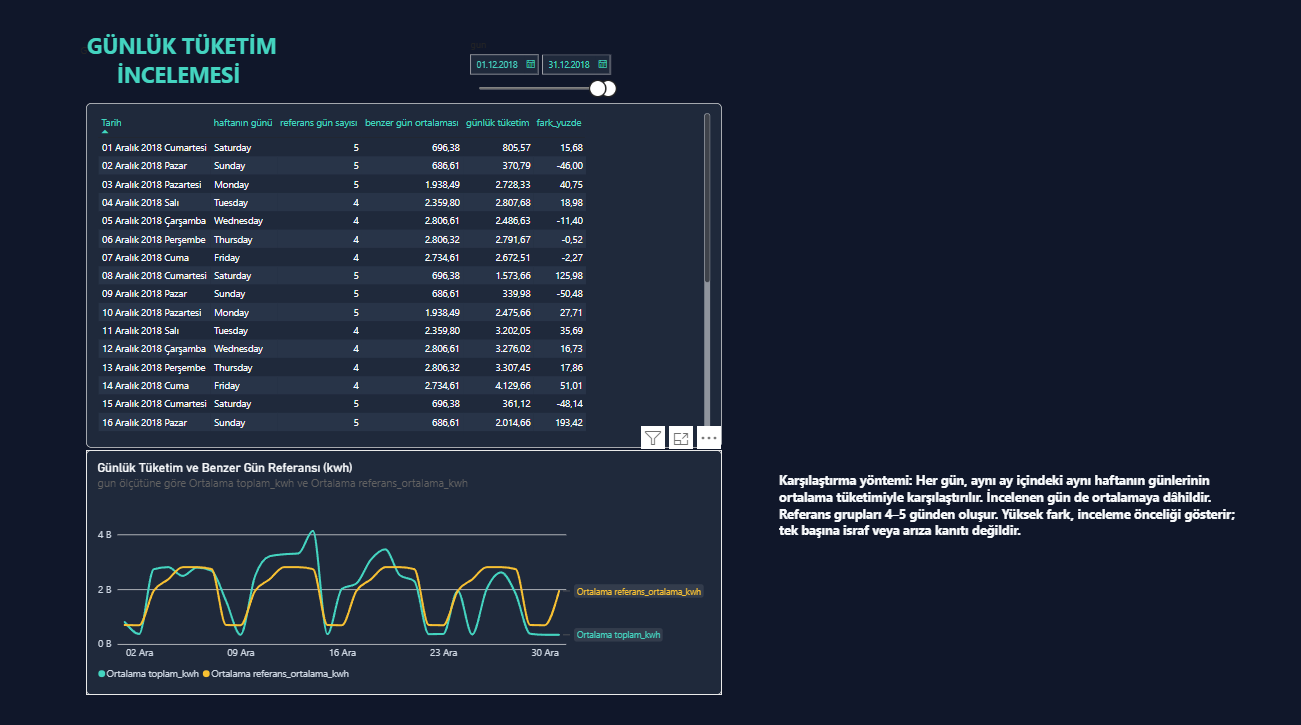

Layout of this report page (visuals, bound fields, positions):
{"tool":"powerbi","page":{"name":"Günlük İnceleme","canvas":[1920,1080],"ordinal":1},"visuals":[{"type":"tableEx","fields":{"Values":["public rapor_benzer_gun_karsilastirmasi.gun","public rapor_benzer_gun_karsilastirmasi.haftanin_gunu","public rapor_benzer_gun_karsilastirmasi.referans_gun_sayisi","public rapor_benzer_gun_karsilastirmasi.referans_ortalama_kwh","public rapor_benzer_gun_karsilastirmasi.toplam_kwh","public rapor_benzer_gun_karsilastirmasi.fark_yuzde"]},"box":[128.2,157.7,937.2,508.4],"z":1},{"type":"slicer","fields":{"Values":["public rapor_benzer_gun_karsilastirmasi.gun"]},"box":[686.7,63.4,226.9,151.8],"z":2},{"type":"textbox","box":[1150,699.9,676.3,300.6],"z":4},{"type":"lineChart","title":"Günlük Tüketim ve Benzer Gün Referansı (kwh)","fields":{"Category":["public rapor_benzer_gun_karsilastirmasi.gun"],"Y":["Avg(public rapor_benzer_gun_karsilastirmasi.toplam_kwh)","Avg(public rapor_benzer_gun_karsilastirmasi.referans_ortalama_kwh)"]},"box":[128.2,669,937.2,361],"z":5},{"type":"textbox","box":[100,50,328.6,150.3],"z":6}]}

Visuals, with their boxes in screenshot pixels (x1, y1, x2, y2), scaled from the page's 1920x1080 canvas onto the 1301x725 screenshot:
tableEx - public rapor_benzer_gun_karsilastirmasi.gun x public rapor_benzer_gun_karsilastirmasi.haftanin_gunu: 87:106:722:447
slicer - public rapor_benzer_gun_karsilastirmasi.gun: 465:43:619:144
textbox: 779:470:1238:672
"Günlük Tüketim ve Benzer Gün Referansı (kwh)" lineChart: 87:449:722:691
textbox: 68:34:290:134
